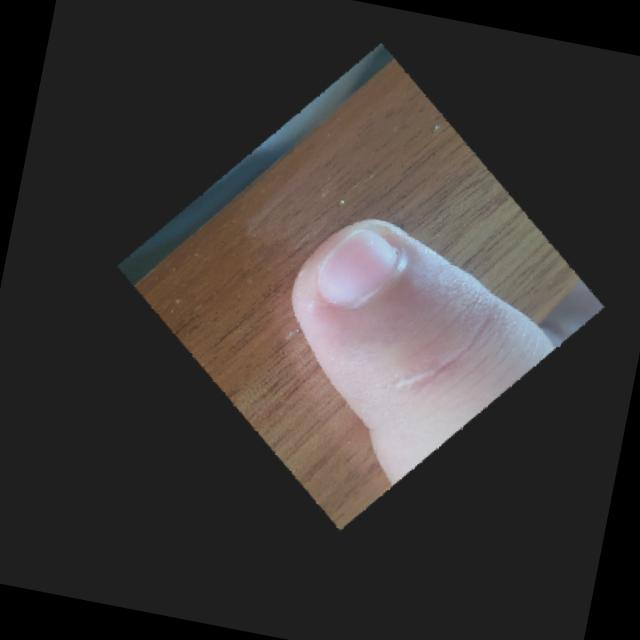Nail: (318, 230, 397, 306)
